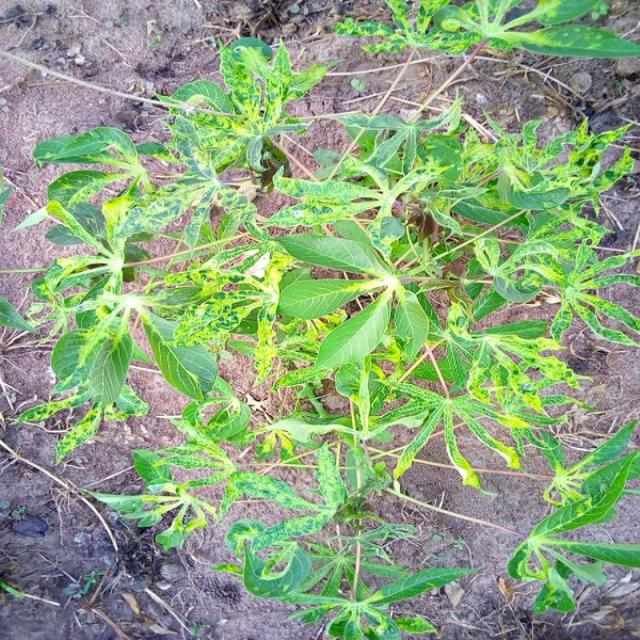cassava leaf: (12, 31, 638, 636)
